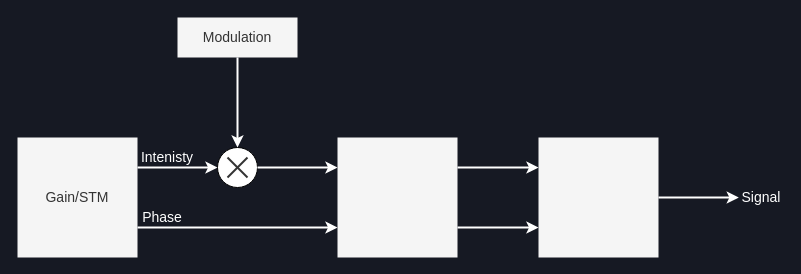
Some shapes in this 801 by 274 pixel diagram are drawn without their labels. Each missing label, with the centre of its shape:
PWM: the point at 598,197
Silencer: the point at 397,197
